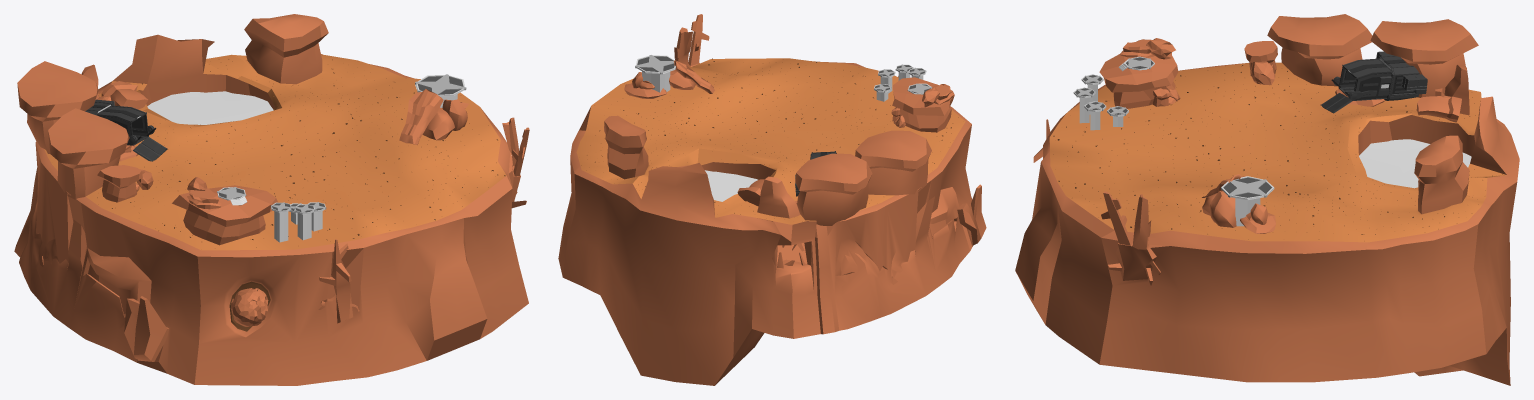
Rendered from Mapa2 (2).fbx.
3 views of the same model, side by side, from view 1: azimuth 30°, elevation 25°; view 2: azimuth 150°, elevation 25°; view 3: azimuth 270°, elevation 25° (orthographic). The views are drawn at different scales.
Visible parts, largest first — view 1: Base mapa, Pilar roca.004, Pilar roca.007, Pilar roca.001, Nave, Roca larga, Pilar roca, Meteorito, Torre, Pilar roca.005, Piedras piso, Roca.008 (+5 smaller); view 2: Base mapa, Pilar roca.007, Pilar roca.004, Pilar roca.001, Torre, Roca larga, Piedras piso, Pilar roca.005, Roca.009; view 3: Base mapa, Pilar roca.004, Pilar roca.007, Nave, Pilar roca.001, Torre, Pilar roca.005, Piedras piso, Roca, Pilar roca, Roca.004, Pilar roca.003 (+3 smaller).
Part boxes in pixels (x1,y1,x2,y2): Base mapa: [14, 14, 529, 385]; Pilar roca.004: [48, 108, 129, 199]; Pilar roca.007: [17, 61, 98, 153]; Pilar roca.001: [172, 185, 277, 245]; Nave: [85, 99, 156, 145]; Roca larga: [399, 89, 443, 144]; Pilar roca: [97, 165, 142, 202]; Meteorito: [230, 288, 268, 326]; Torre: [415, 74, 466, 107]; Pilar roca.005: [101, 81, 147, 109]; Piedras piso: [97, 54, 505, 248]; Roca.008: [422, 107, 454, 140]; Base mapa: [558, 14, 986, 385]; Pilar roca.007: [795, 153, 872, 225]; Pilar roca.004: [855, 130, 931, 195]; Pilar roca.001: [892, 77, 954, 132]; Torre: [635, 55, 675, 96]; Roca larga: [673, 60, 714, 93]; Piedras piso: [578, 58, 958, 221]; Pilar roca.005: [737, 179, 764, 206]; Roca.009: [624, 83, 667, 98]; Base mapa: [1015, 62, 1519, 385]; Pilar roca.004: [1267, 14, 1372, 86]; Pilar roca.007: [1370, 19, 1478, 97]; Nave: [1331, 51, 1427, 100]; Pilar roca.001: [1099, 54, 1178, 108]; Torre: [1221, 176, 1274, 226]; Pilar roca.005: [1416, 96, 1461, 122]; Piedras piso: [1053, 65, 1502, 241]; Roca: [1210, 191, 1236, 227]; Pilar roca: [1244, 41, 1277, 76]; Roca.004: [1250, 61, 1274, 85]; Pilar roca.003: [1119, 39, 1154, 57].
Size of the model in its own units: 16240 by 10442 by 17310.
